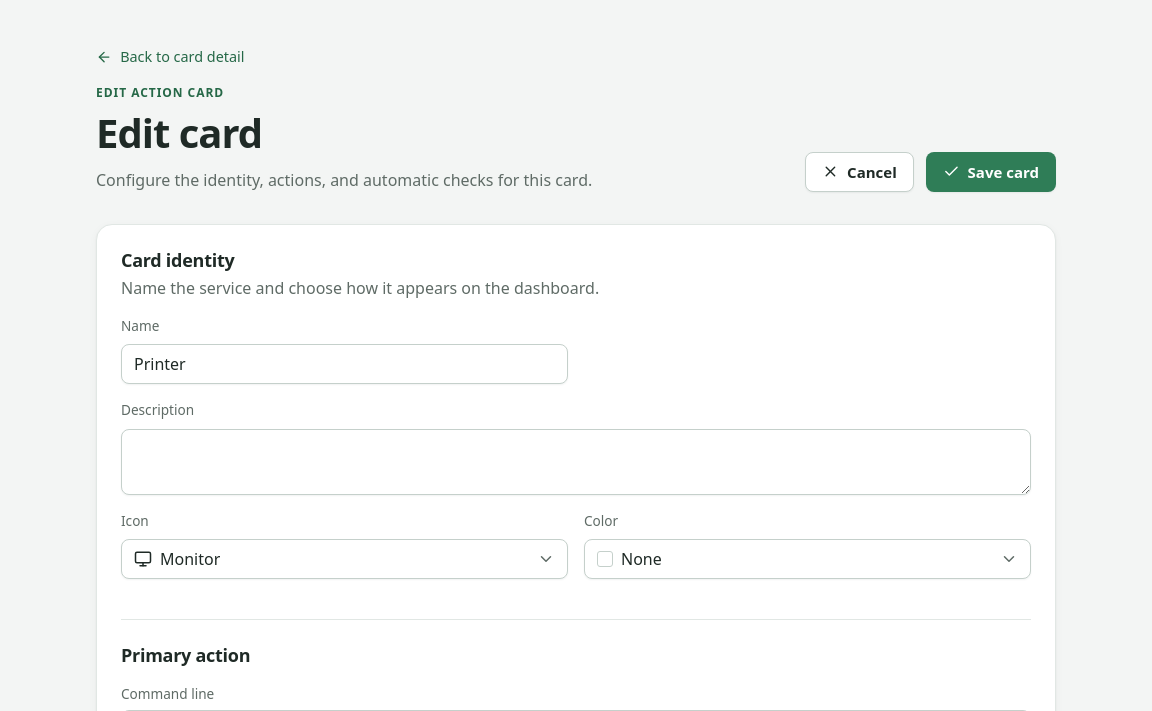
CardEditView › shows 422 field messages beside the inputs and keeps the values
The width and height of the screenshot is (1152, 711).
Replace the text in the field labelled "Name" with "Printer renamed". click: (344, 364)
box: x1=121 y1=344 x2=568 y2=384
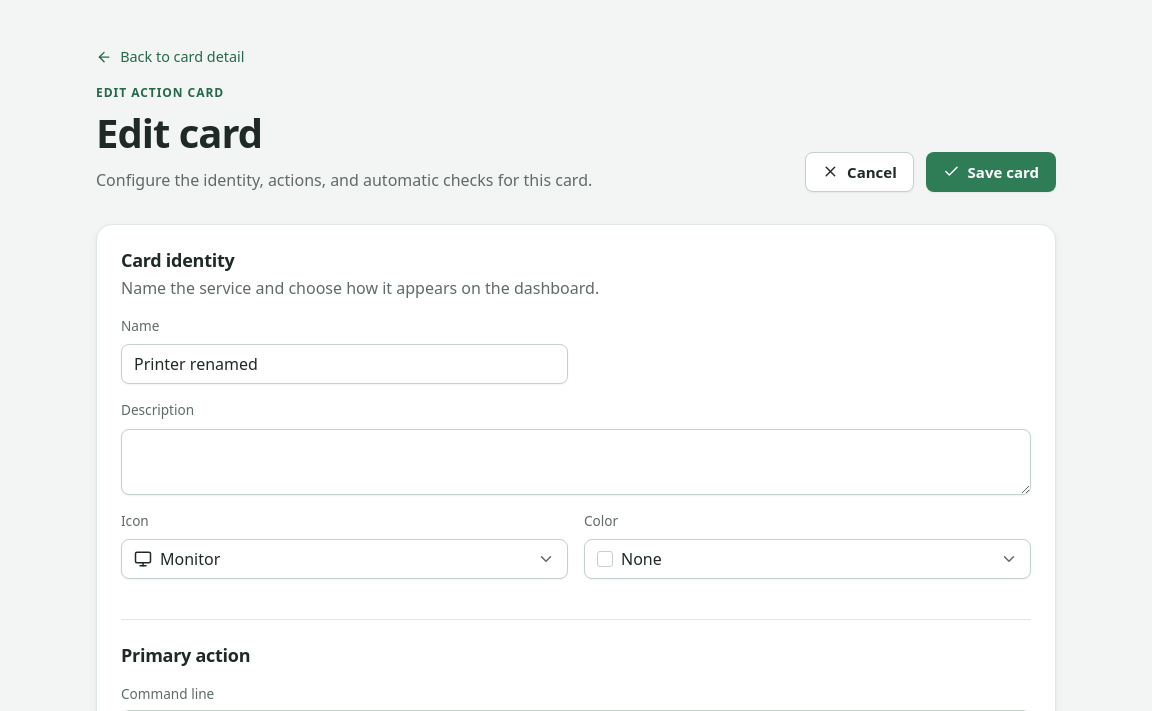
Click the button "Save card". click: (991, 172)
box: x1=926 y1=152 x2=1056 y2=192
(page scrolled)
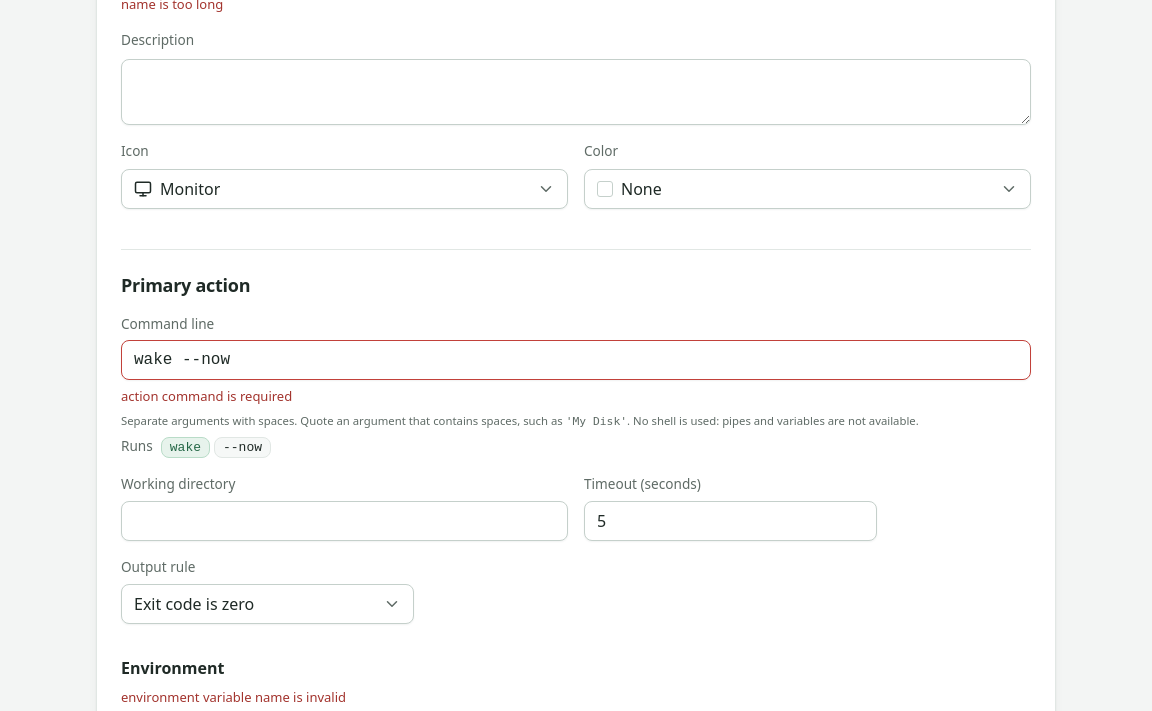
Expected: the field with class "command-line" holds "wake --now", x1=121 y1=340 x2=1031 y2=380
Expected: the text with class "field-error" reads "action command is required", x1=121 y1=387 x2=292 y2=405
Expected: the text with class "field-error" reads "environment variable name is invalid", x1=121 y1=688 x2=346 y2=706
